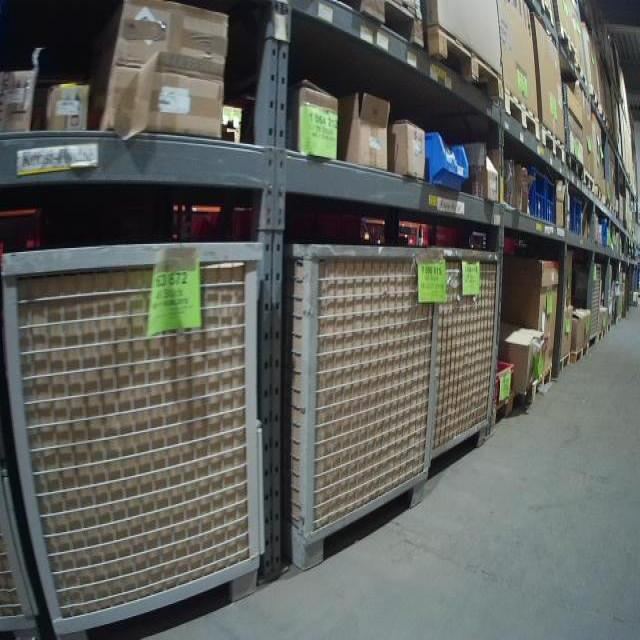pallet: (427, 26, 505, 107), (352, 2, 425, 51), (503, 84, 540, 147), (540, 121, 567, 168), (525, 363, 554, 406), (493, 394, 514, 427), (568, 157, 587, 187), (571, 342, 589, 367), (554, 351, 572, 373), (584, 172, 595, 195), (594, 187, 606, 207), (598, 326, 608, 343)
small_load_carrier: (524, 160, 545, 228), (545, 177, 556, 224), (563, 194, 574, 236), (575, 200, 583, 237), (600, 217, 609, 247)
stillage: (1, 229, 273, 640), (278, 231, 447, 576), (431, 234, 508, 475), (0, 450, 48, 640), (586, 260, 606, 348)
